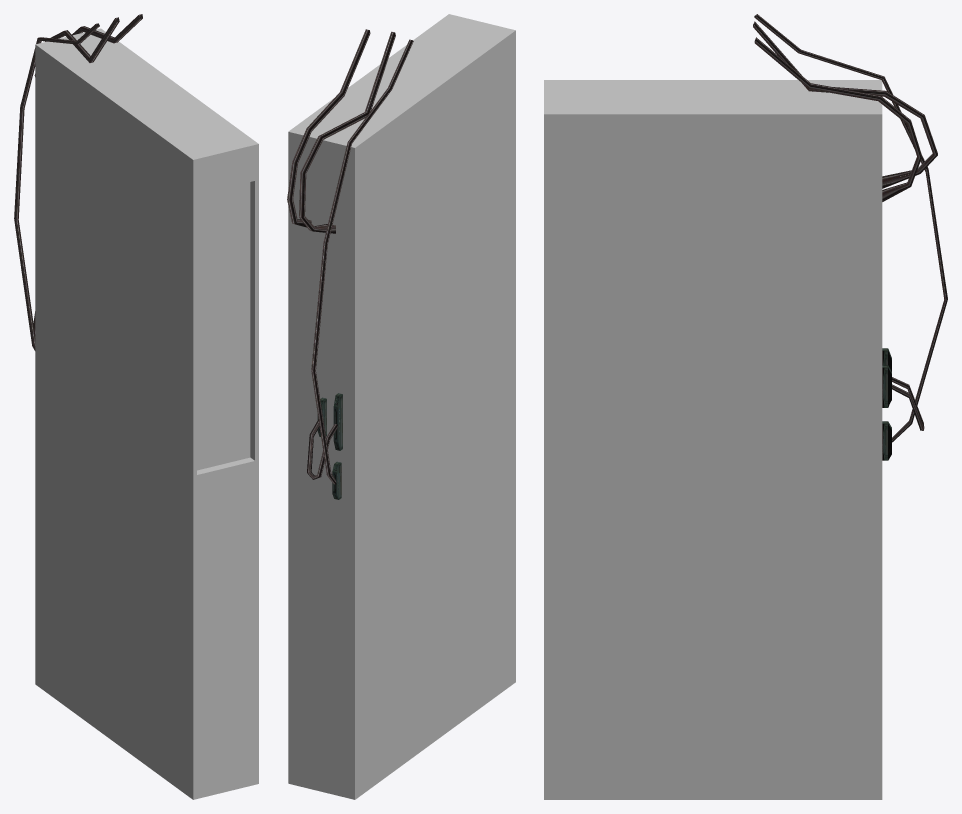
Rendered from case_1.fbx.
The picture shows the model from 3 angles, left to right: view 1: azimuth 30°, elevation 25°; view 2: azimuth 150°, elevation 25°; view 3: azimuth 270°, elevation 25°; orthographic projection. The views are drawn at different scales.
Visible parts, largest first — view 1: mesh_0, mesh_1; view 2: mesh_0, mesh_1; view 3: mesh_0, mesh_1.
Boxes of the visible parts, box(x1,y1,x2,y2) form: mesh_0: box(35, 28, 258, 799); mesh_1: box(14, 14, 142, 350); mesh_0: box(288, 14, 515, 799); mesh_1: box(287, 29, 413, 499); mesh_0: box(544, 80, 882, 799); mesh_1: box(753, 14, 947, 460).
Bounding box in the file's own units: 23.86 × 245 × 119.
